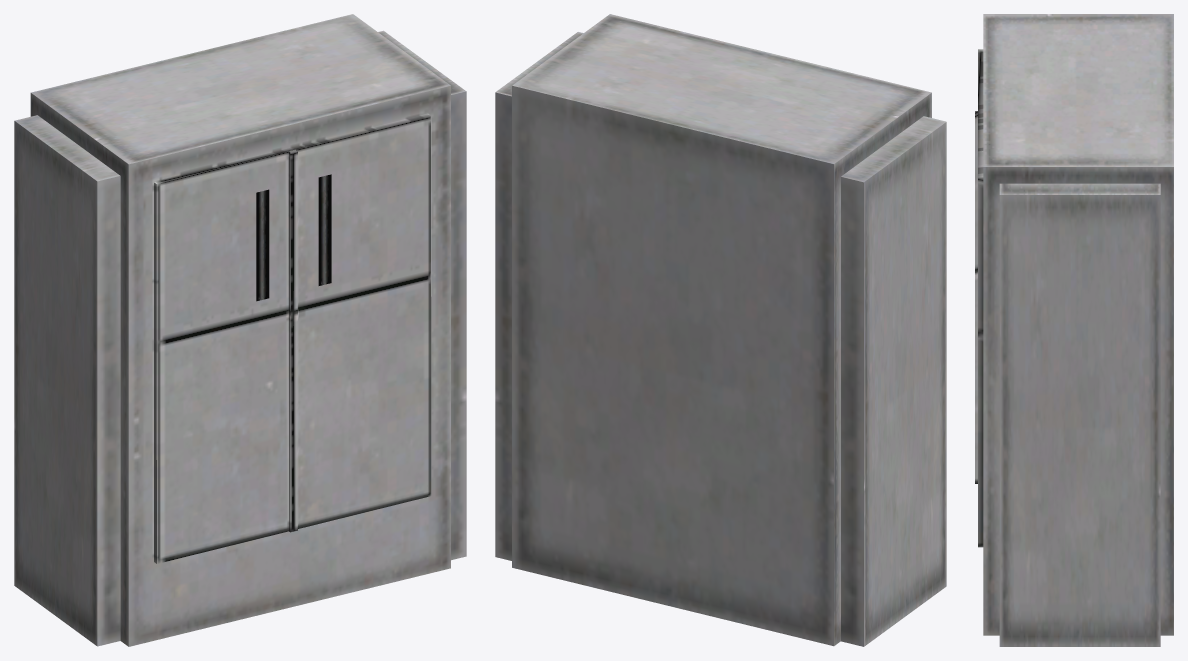
The model's file is frn_all_plan_cabinet_s01_l1.fbx.
The picture shows the model from 3 angles, left to right: view 1: azimuth 30°, elevation 25°; view 2: azimuth 150°, elevation 25°; view 3: azimuth 270°, elevation 25°; orthographic projection. The views are drawn at different scales.
Parts seen in each view (by area): view 1: mesh_node; view 2: mesh_node; view 3: mesh_node.
Boxes of the visible parts, bbox=[...] form: mesh_node: bbox=[14, 14, 466, 646]; mesh_node: bbox=[495, 14, 946, 646]; mesh_node: bbox=[975, 14, 1173, 646].
Size of the model in its own units: 1.44 by 1.8 by 0.6925.
1 material, 1 textured.
